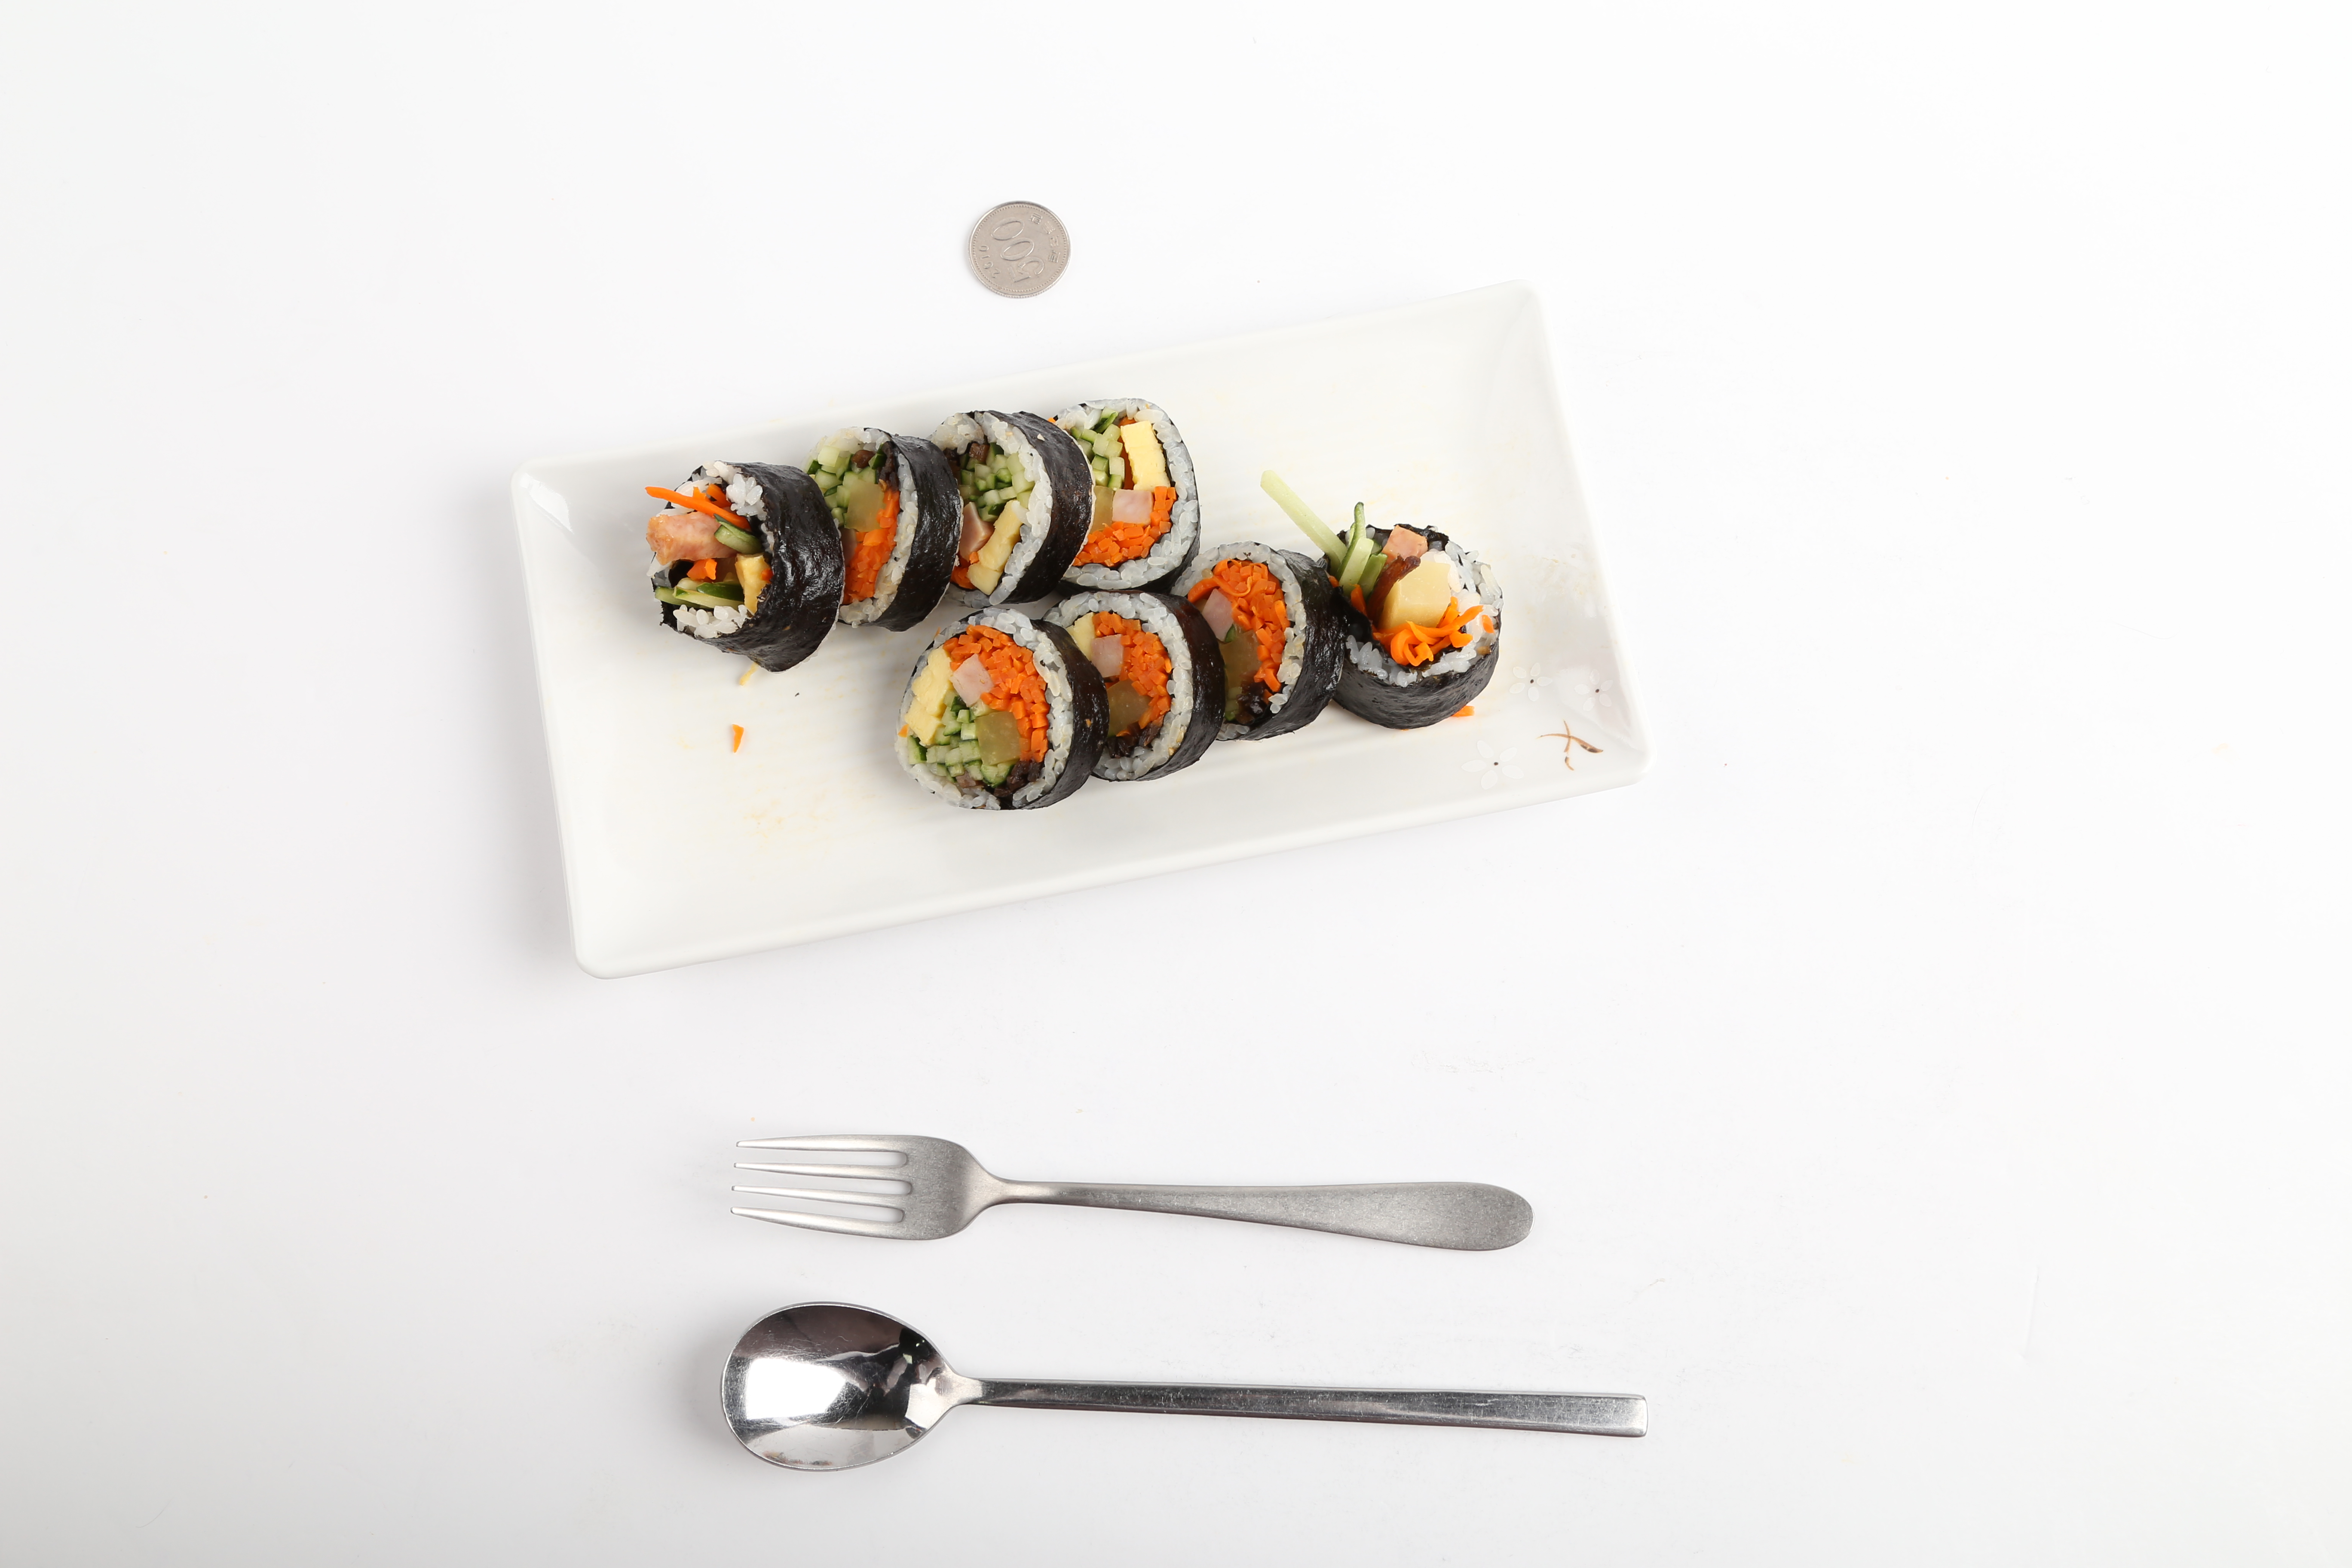dish: (507, 273, 1662, 975)
ref_coin: (955, 194, 1076, 304)
ref_fork: (723, 1130, 1059, 1244)
ref_spoon: (712, 1298, 1053, 1477)
김밥: (644, 388, 1505, 815)
